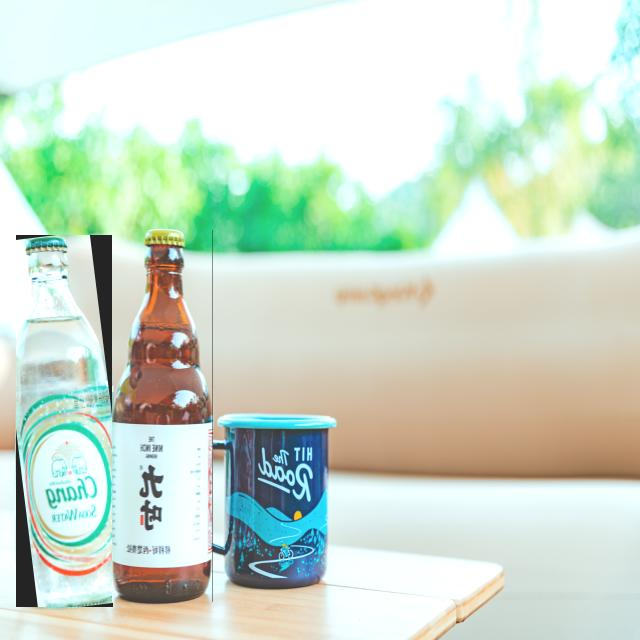Bottle: (111, 230, 211, 602), (15, 236, 112, 607)
